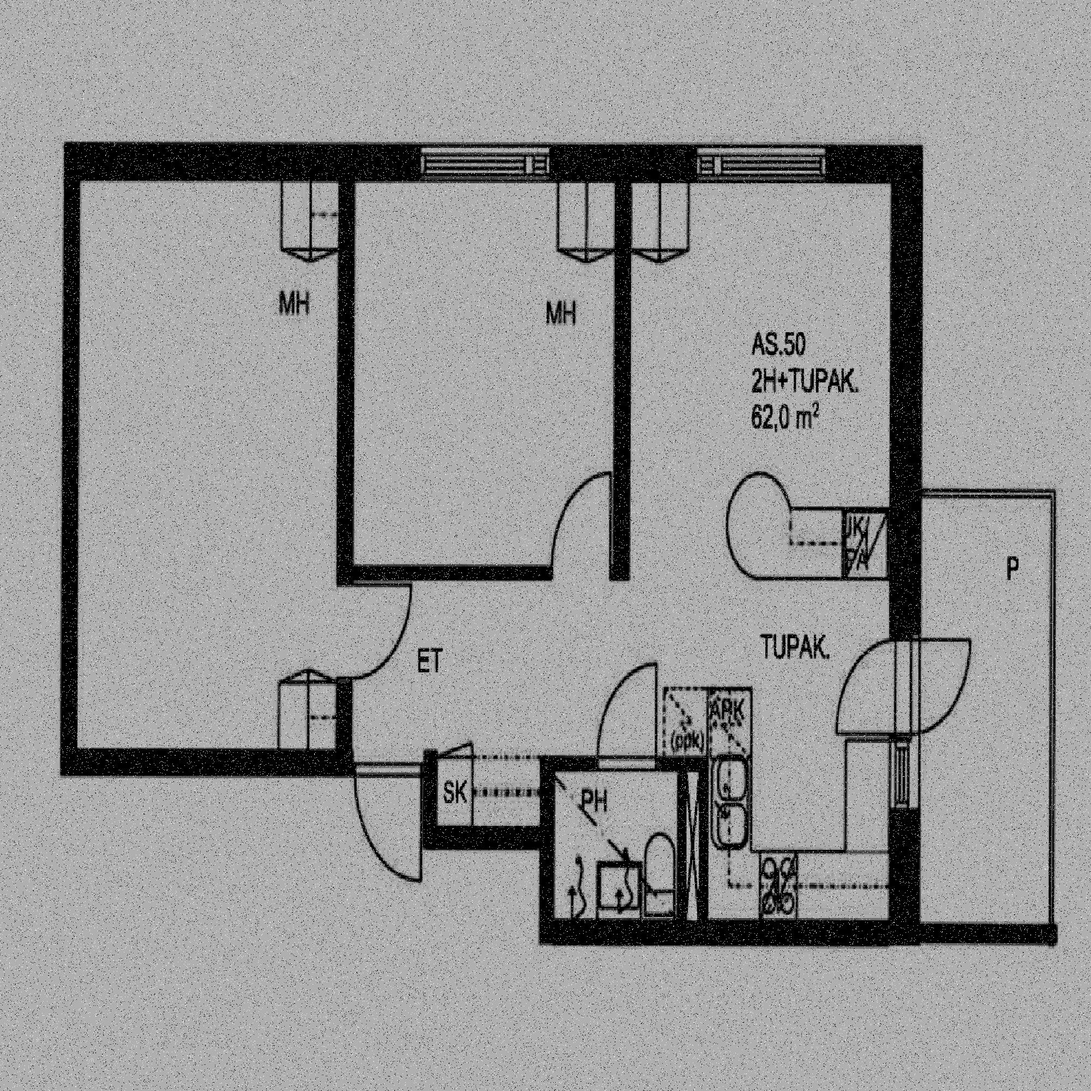wall: (64, 143, 923, 181), (891, 143, 923, 944), (64, 143, 80, 775), (338, 143, 354, 775), (64, 750, 436, 775), (540, 923, 923, 944), (615, 143, 630, 579), (678, 757, 708, 945), (338, 565, 630, 579), (423, 827, 554, 848), (923, 925, 1054, 944), (540, 757, 708, 771), (540, 826, 554, 944), (423, 750, 436, 848), (540, 757, 554, 826)
